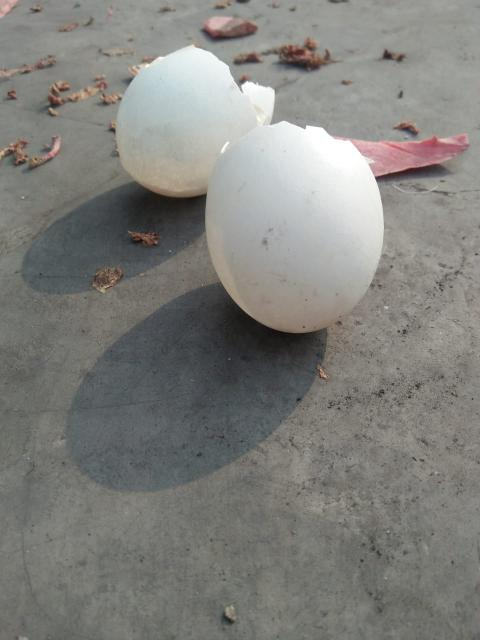Roto: (209, 120, 386, 334), (114, 43, 274, 198)
